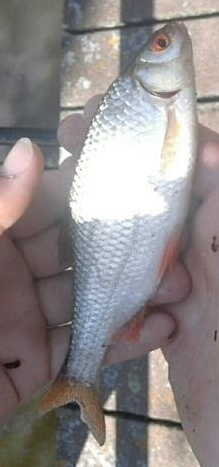Rutilus rutilus: (20, 20, 199, 447)
